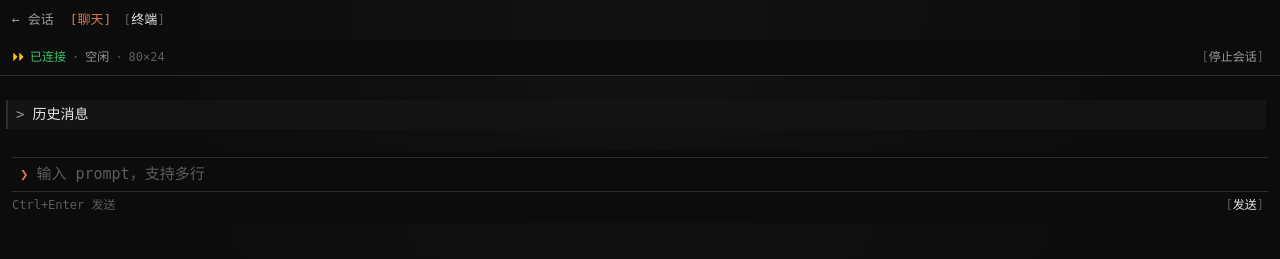
Scenario: SessionView › reports a failed stop without hiding the button
The image size is (1280, 259).
Click the button with test id "stop".
click(1233, 57)  # box [1198,46,1268,69]
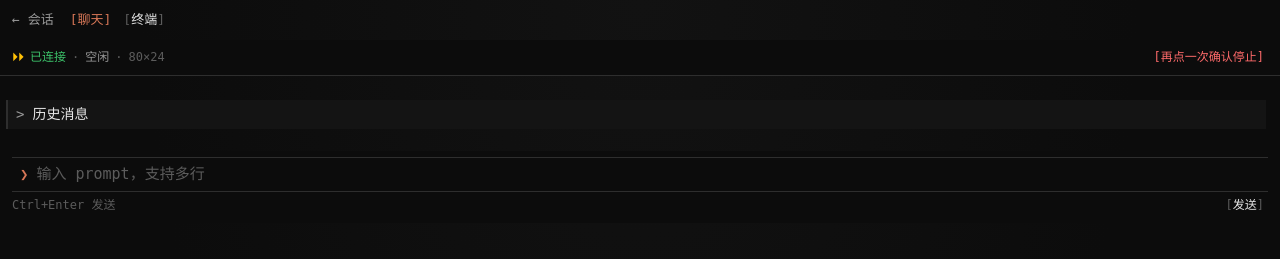
Click the button with test id "stop".
click(1209, 57)  # box [1150,46,1268,69]
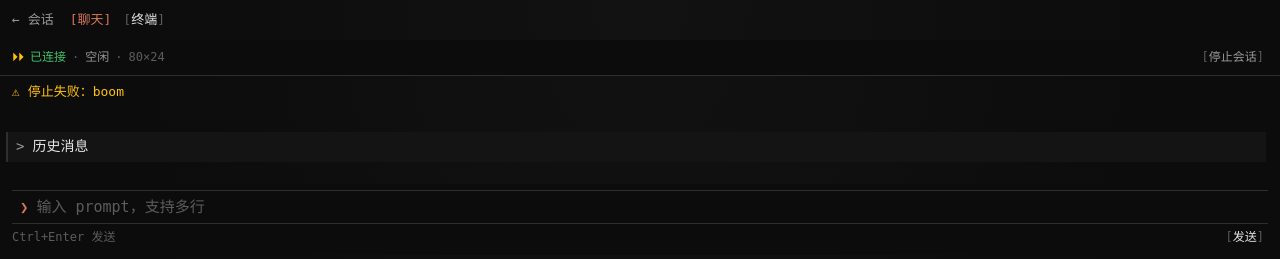
expect the button with test id "stop" is shown: met, box [1198,46,1268,69]
expect the text "停止失败" is shown: met, box [12,84,124,99]
